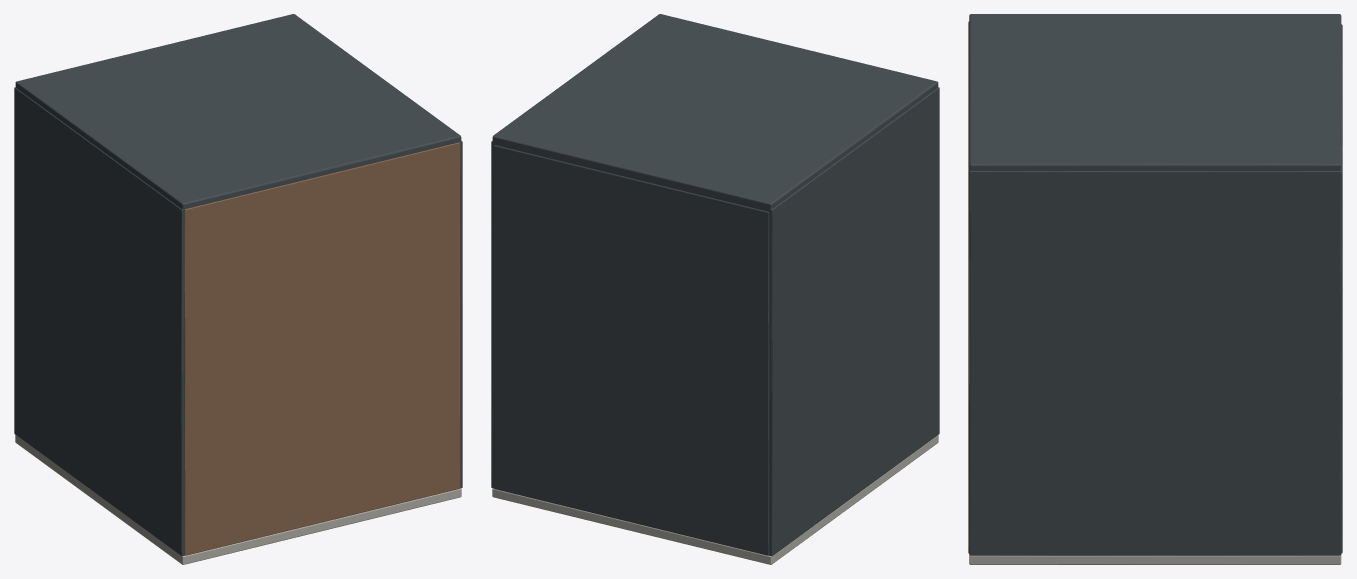
The model's file is lift_cabin.glb.
3 renders of one model, left to right at view 1: azimuth 30°, elevation 25°; view 2: azimuth 150°, elevation 25°; view 3: azimuth 270°, elevation 25°, orthographic. The views are drawn at different scales.
Parts seen in each view (by area): view 1: RearWall, WallBacking, Ceiling, Deck; view 2: DoorBacking, WallBacking, Ceiling, Deck; view 3: WallBacking, Ceiling, Deck, RearWall, DoorBacking.
Part boxes in pixels (left/top/right/bottom): RearWall: left=184, top=142, right=460, bottom=555; WallBacking: left=14, top=87, right=462, bottom=556; Ceiling: left=15, top=14, right=461, bottom=213; Deck: left=15, top=435, right=461, bottom=564; DoorBacking: left=493, top=145, right=769, bottom=555; WallBacking: left=491, top=87, right=939, bottom=556; Ceiling: left=492, top=14, right=938, bottom=213; Deck: left=492, top=435, right=938, bottom=564; WallBacking: left=969, top=170, right=1341, bottom=555; Ceiling: left=969, top=14, right=1341, bottom=170; Deck: left=969, top=555, right=1341, bottom=564; RearWall: left=968, top=21, right=969, bottom=553; DoorBacking: left=1341, top=24, right=1342, bottom=553.
Bounding box in the file's own units: 2.28 × 2.8 × 2.36.
